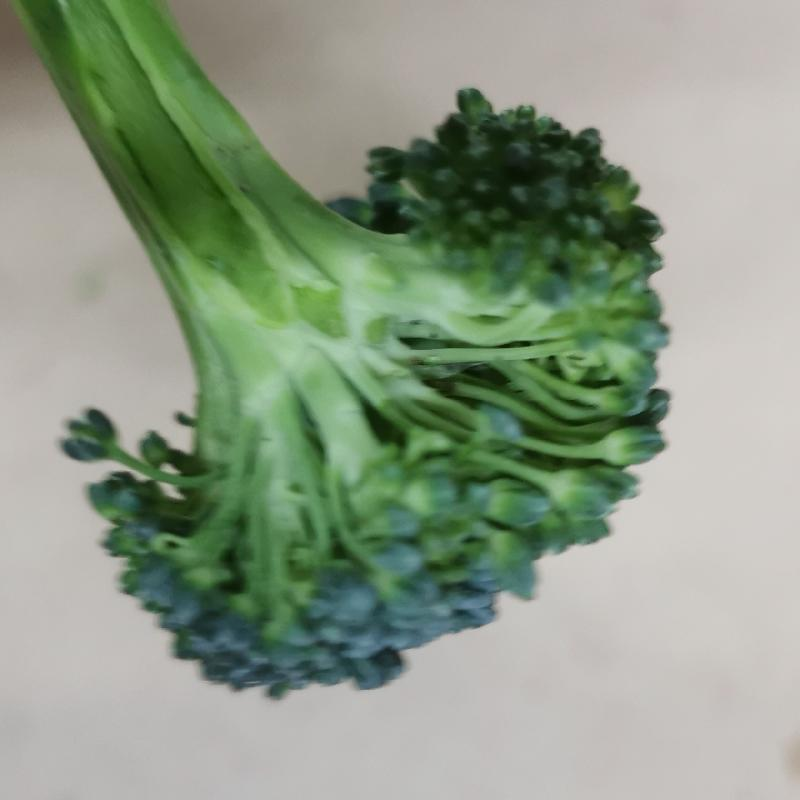broccoli: (4, 3, 671, 698)
